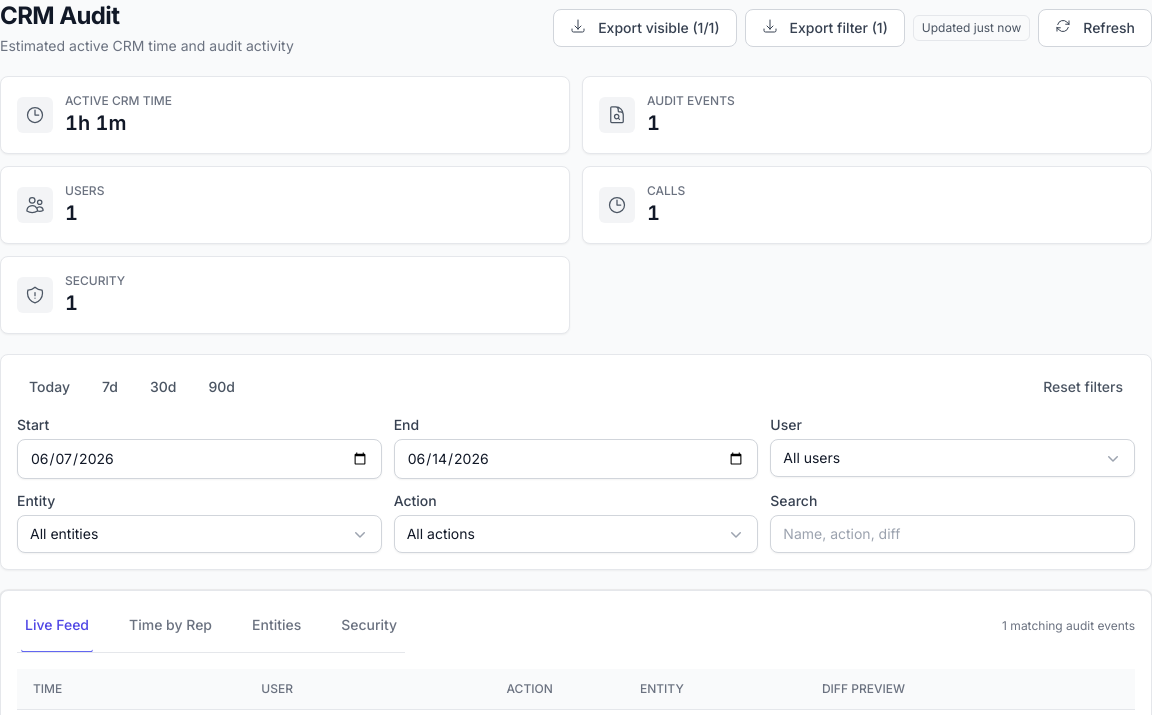
Test: AdminAuditPage › renders the time by rep, entities, and security tabs
Click the button "Time by Rep" at (170, 626), box left=125, top=599, right=216, bottom=653
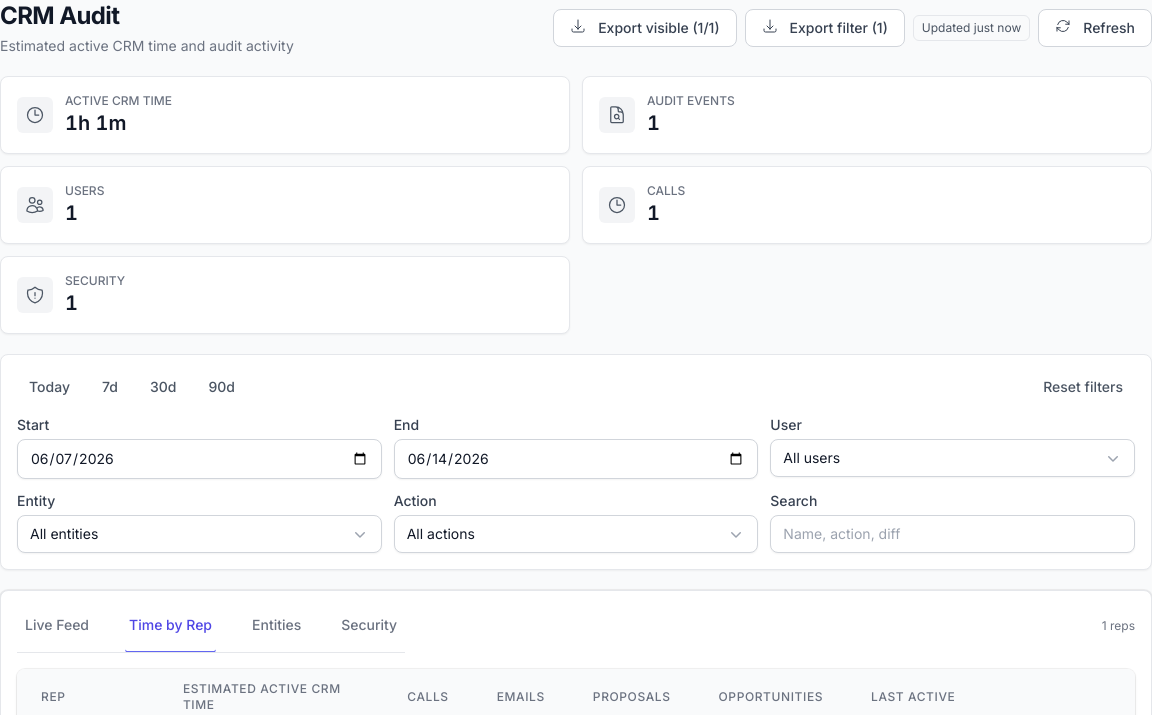
expect the text "1h 1m" is shown: met, box left=65, top=111, right=126, bottom=135
Click the button "Entities" at (277, 626), box left=248, top=599, right=305, bottom=653
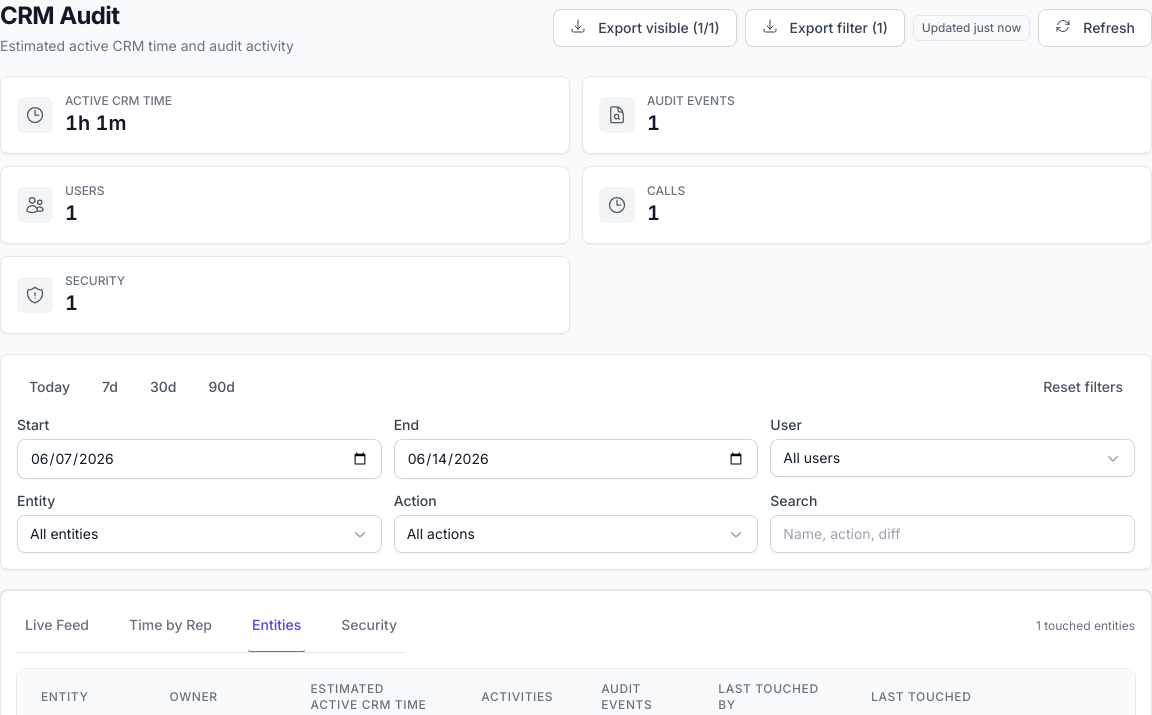
Click the button "Security" at (369, 626), box left=337, top=599, right=401, bottom=653
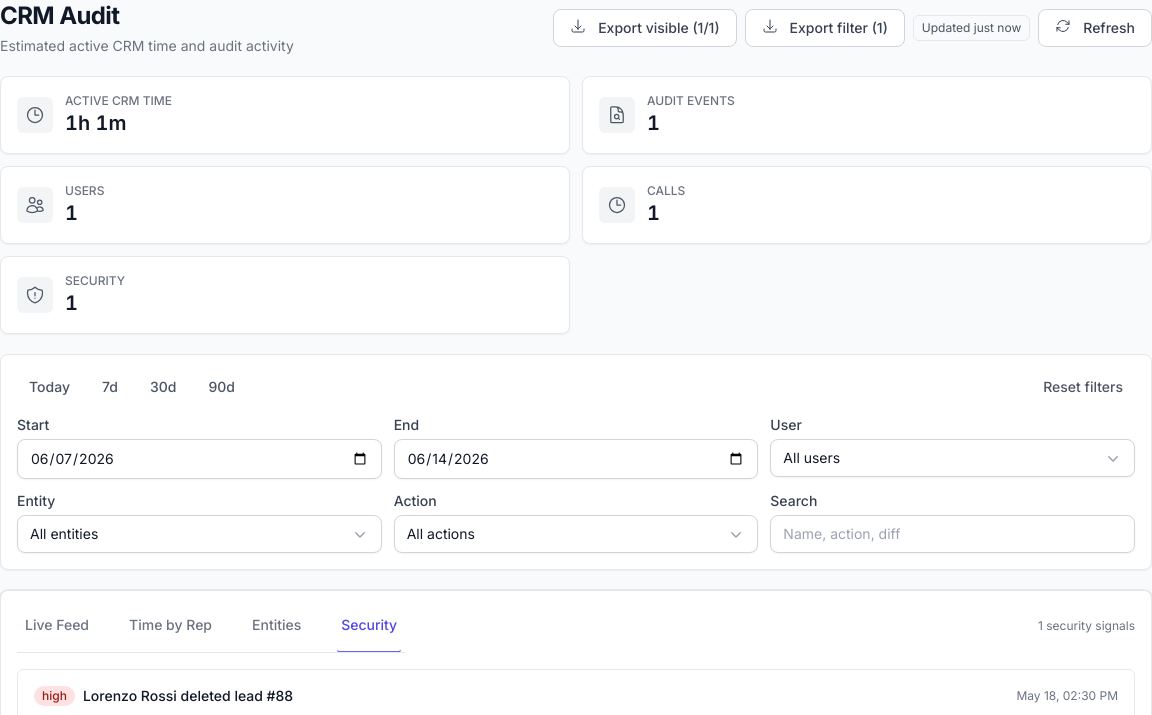
expect the text "Lorenzo Rossi deleted lead #88" is shown: met, box left=83, top=686, right=293, bottom=706
